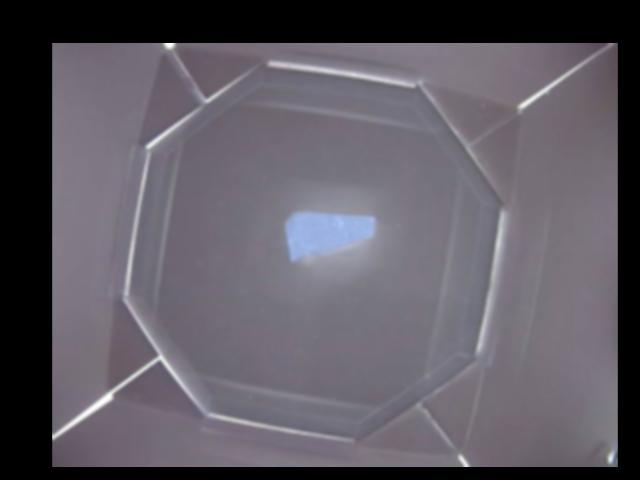China: (284, 216, 375, 262)
